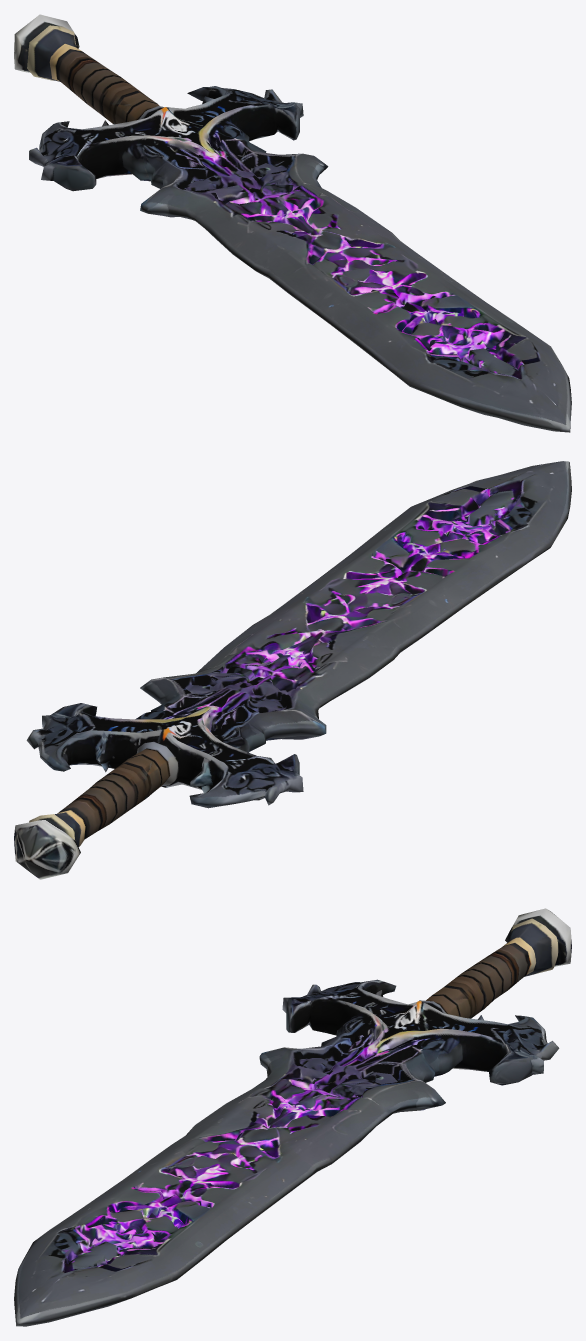
Rendered from cursed+greatsword+3d+model.obj.
3 views of the same model, one above another, from view 1: azimuth 30°, elevation 25°; view 2: azimuth 150°, elevation 25°; view 3: azimuth 330°, elevation 25° (orthographic).
Visible parts, largest first — view 1: tripo_node_1bc0c028-503c-4b22-a05d-d4f90299d3b7; view 2: tripo_node_1bc0c028-503c-4b22-a05d-d4f90299d3b7; view 3: tripo_node_1bc0c028-503c-4b22-a05d-d4f90299d3b7.
Boxes of the visible parts, x1,y1,x2,y2 form: tripo_node_1bc0c028-503c-4b22-a05d-d4f90299d3b7: (14,14,571,432); tripo_node_1bc0c028-503c-4b22-a05d-d4f90299d3b7: (14,461,571,879); tripo_node_1bc0c028-503c-4b22-a05d-d4f90299d3b7: (14,908,571,1326).
Size of the model in its own units: 0.2788 by 0.0609 by 1.
1 material, 1 textured.
